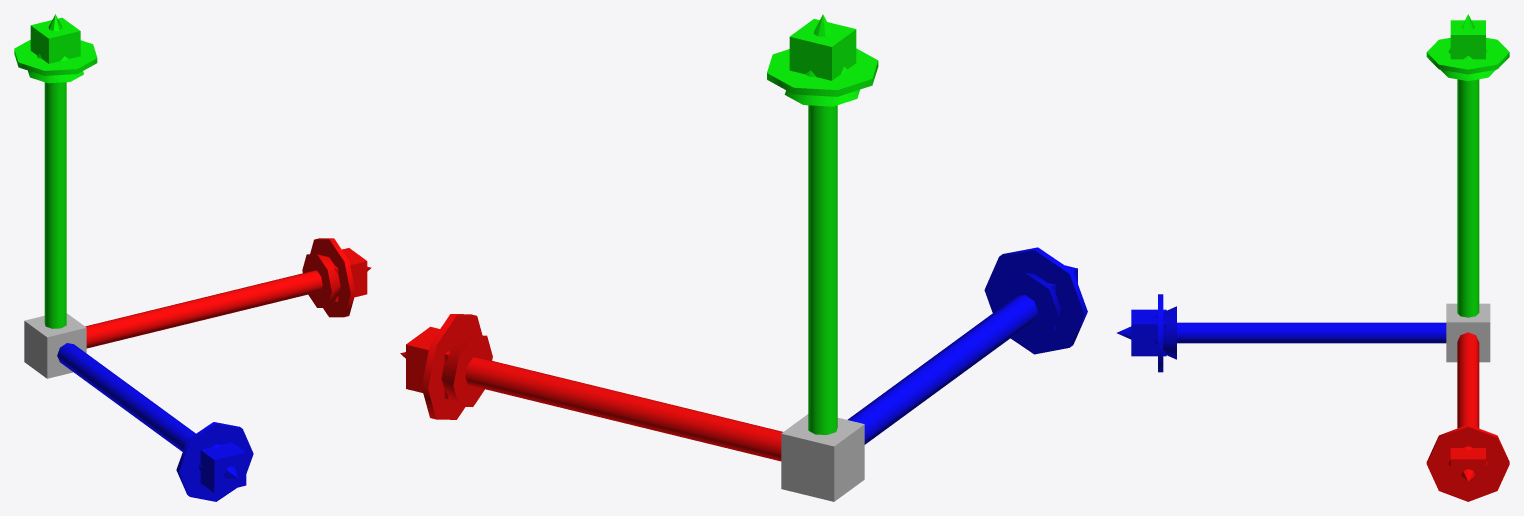
File: GizmoModelSimple.FBX
3 views of the same model, side by side, from view 1: azimuth 30°, elevation 25°; view 2: azimuth 150°, elevation 25°; view 3: azimuth 270°, elevation 25° (orthographic). The views are drawn at different scales.
Parts seen in each view (by area): view 1: X_Translate, Y_Translate, Z_Scale, Pivot, Z_Rotate, Y_Scale, Y_Rotate, X_Rotate, X_Scale; view 2: X_Translate, Y_Translate, Z_Scale, Pivot, Z_Rotate, Y_Scale, Y_Rotate, X_Rotate, Z_Translate, X_Scale; view 3: Z_Scale, Y_Translate, X_Rotate, X_Translate, Pivot, Y_Rotate, X_Scale, Y_Scale, Z_Translate, Z_Rotate.
Boxes of the visible parts, box(x1,y1,x2,y2) form: X_Translate: box(85, 254, 371, 348); Y_Translate: box(28, 14, 83, 328); Z_Scale: box(57, 343, 246, 493); Pivot: box(24, 313, 86, 378); Z_Rotate: box(176, 422, 253, 501); Y_Scale: box(30, 17, 80, 63); Y_Rotate: box(14, 40, 97, 75); X_Rotate: box(310, 238, 355, 317); X_Scale: box(334, 248, 367, 301); X_Translate: box(400, 335, 782, 461); Y_Translate: box(784, 14, 859, 434); Z_Scale: box(847, 265, 1077, 444); Pivot: box(781, 414, 864, 501); Z_Rotate: box(984, 247, 1087, 354); Y_Scale: box(789, 19, 856, 80); Y_Rotate: box(767, 48, 878, 96); X_Rotate: box(421, 314, 482, 419); Z_Translate: box(990, 273, 1060, 344); X_Scale: box(406, 326, 450, 398); Z_Scale: box(1131, 309, 1446, 356); Y_Translate: box(1440, 14, 1495, 317); X_Rotate: box(1426, 424, 1509, 501); X_Translate: box(1448, 332, 1487, 481); Pivot: box(1446, 303, 1490, 362); Y_Rotate: box(1426, 37, 1509, 74); X_Scale: box(1450, 448, 1485, 491); Y_Scale: box(1450, 20, 1485, 59); Z_Translate: box(1117, 306, 1176, 359); Z_Rotate: box(1158, 294, 1163, 372).
Bounding box in the file's own units: 89.26 × 89.35 × 89.28.
